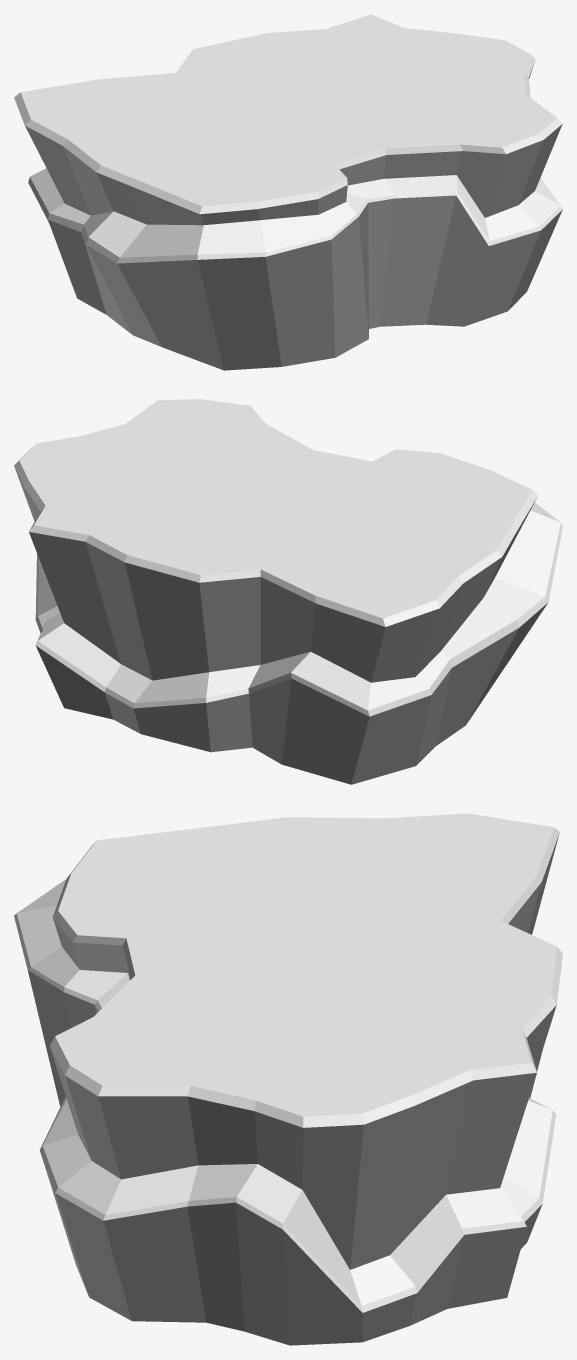
Rendered from DWE_Cliff_02A.fbx.
3 views of the same model, one above another, from view 1: azimuth 30°, elevation 25°; view 2: azimuth 150°, elevation 25°; view 3: azimuth 270°, elevation 25° (orthographic). The views are drawn at different scales.
Visible parts, largest first — view 1: DWE_Cliff_02A; view 2: DWE_Cliff_02A; view 3: DWE_Cliff_02A.
Part boxes in pixels (x1=…): DWE_Cliff_02A: x1=14, y1=14, x2=562, y2=370; DWE_Cliff_02A: x1=14, y1=399, x2=562, y2=784; DWE_Cliff_02A: x1=14, y1=813, x2=562, y2=1345.
Size of the model in its own units: 1463 by 538 by 1074.
